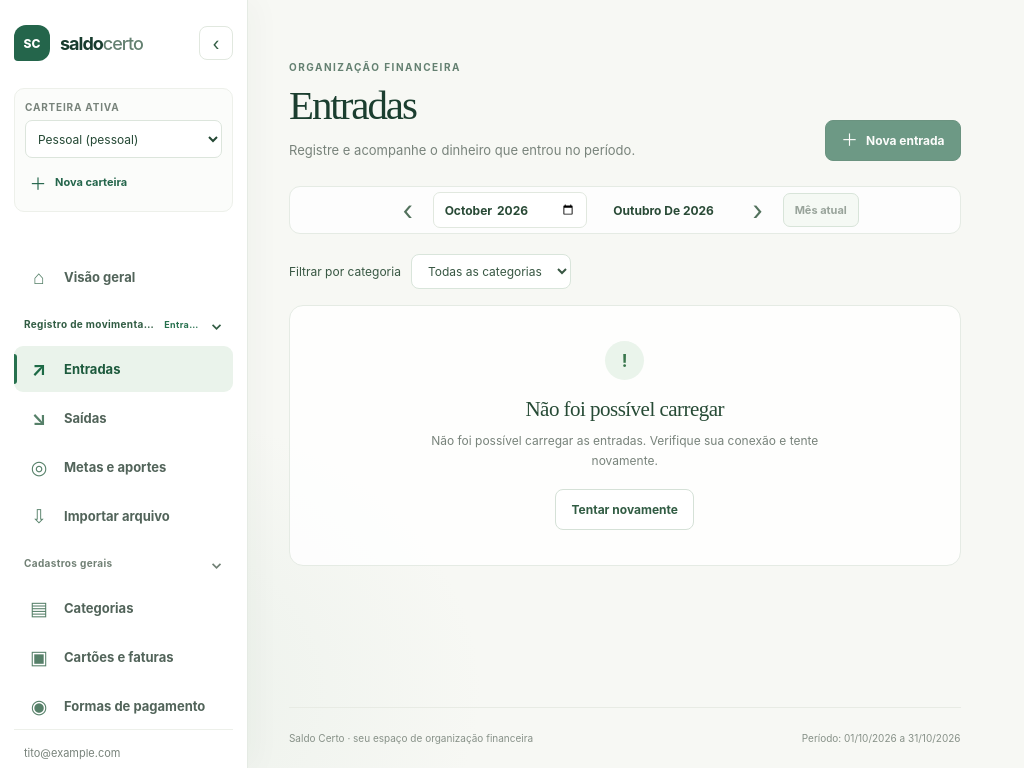
Test: IncomesPage currency input › shows a recoverable error when incomes cannot be loaded
Expected: the dropdown labelled "Carteira ativa" is shown, [25,120,222,158]
Expected: the message shows "Não foi possível carregar as entradas.", [431,433,818,468]
Click the button "Tentar novamente".
click(625, 509)  # box [556,489,694,530]
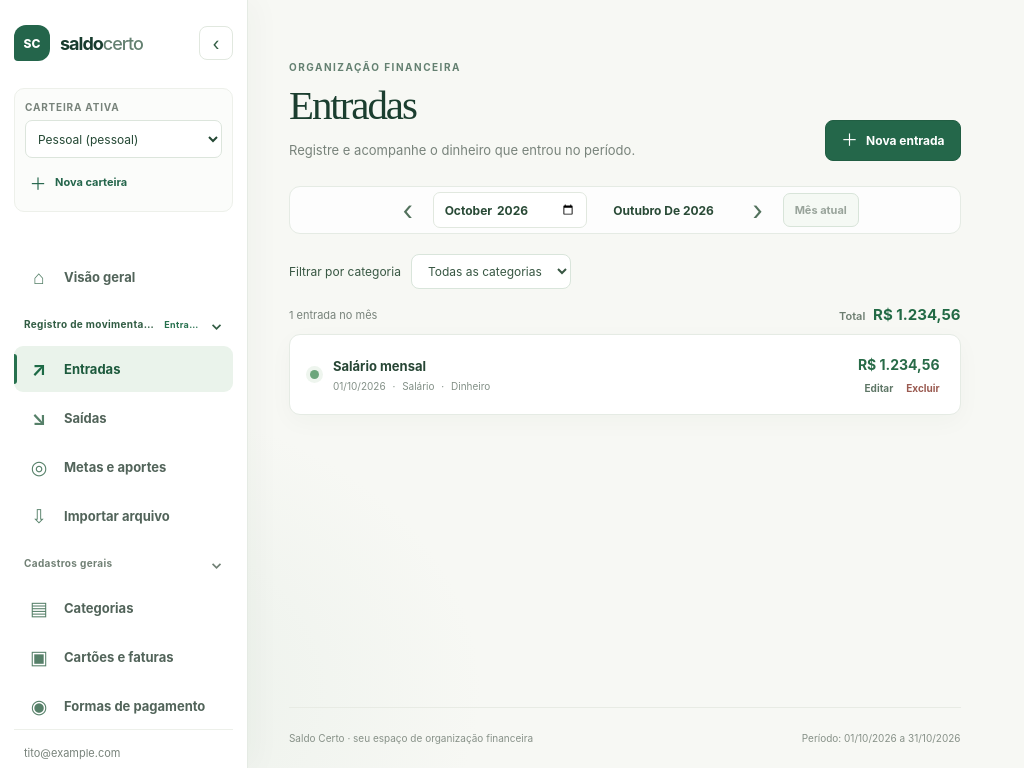
Expected: the heading "Salário mensal" is shown, [333,358,426,374]
